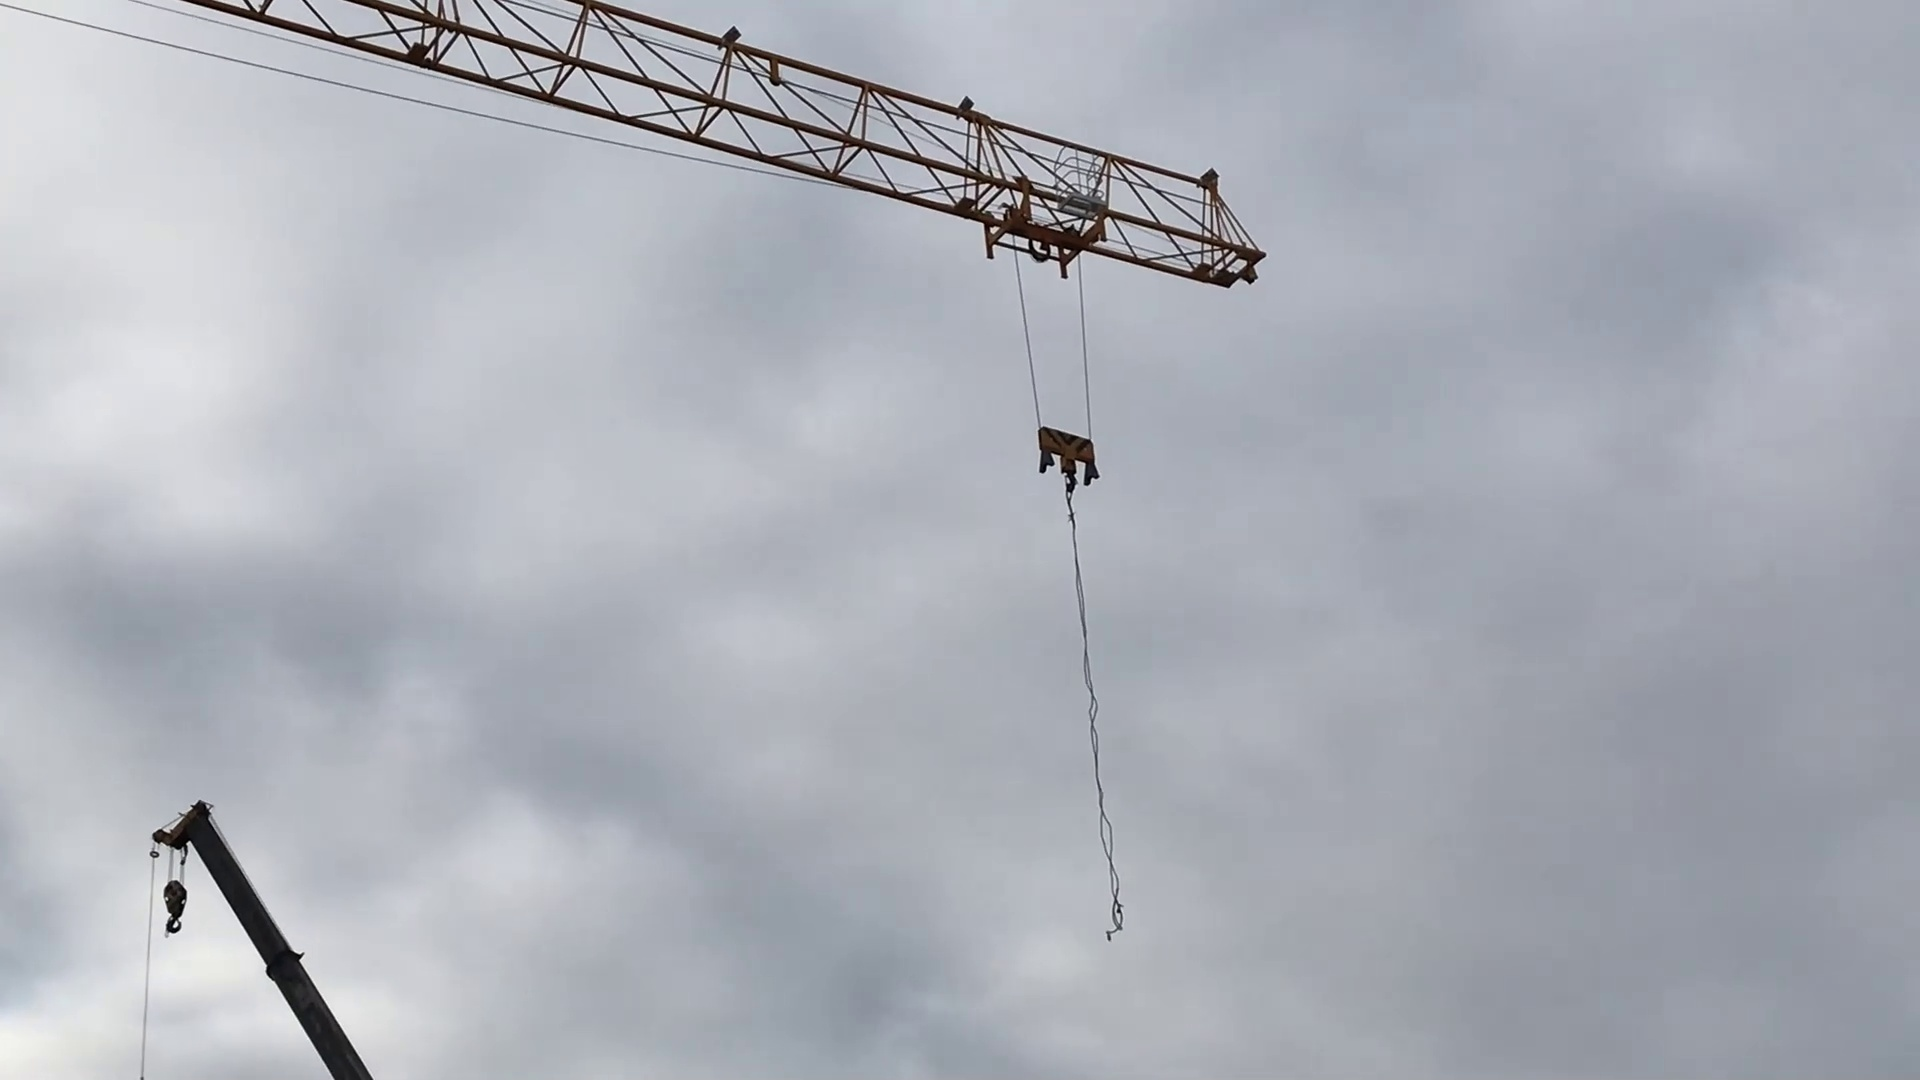hook: (1025, 415, 1108, 501), (142, 866, 210, 953)
